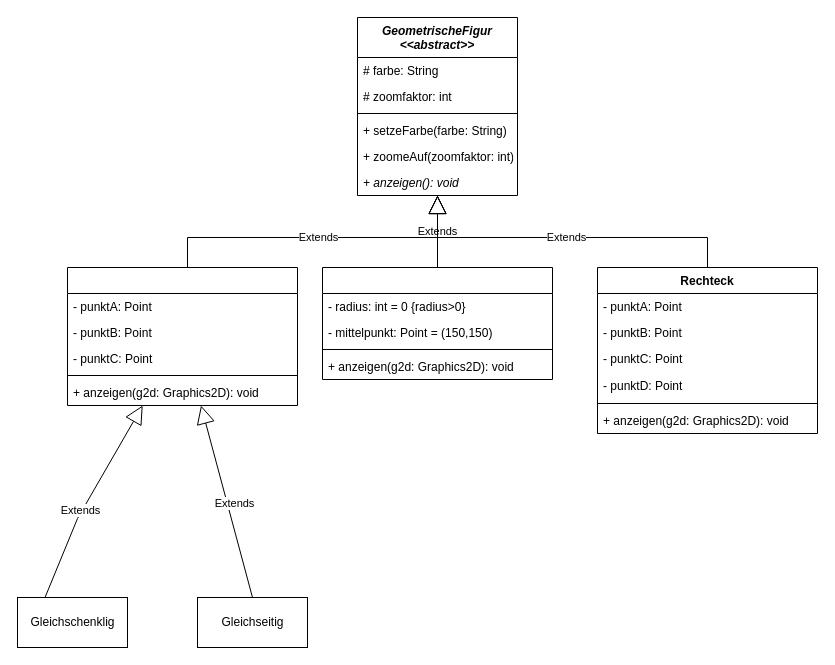
The diagram is 835 pixels wide and 665 high, and some of its shapes have lost their labels. The shapes that lost their labels are listed below. From the top down, each one's box as (x1, y1, x2, y2) in pixels, then its label:
(66, 266, 298, 406): Dreieck
(322, 266, 552, 380): Kreis
